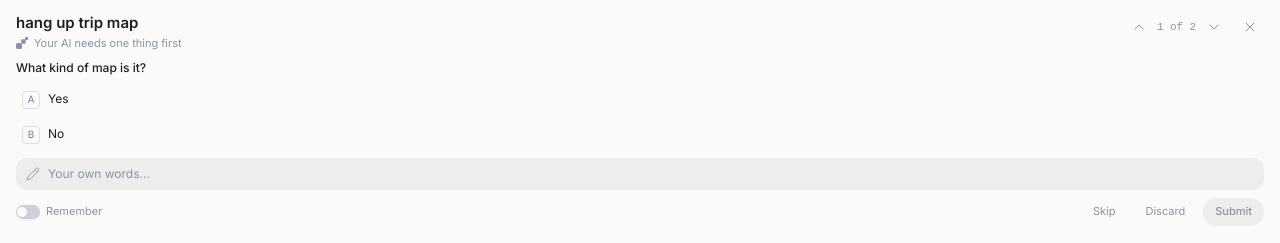
Test: the quick round › deals the next question once one is answered
Expected: the text "What kind of map is it?" is shown, [16, 60, 146, 75]
Expected: the text "1 of 2" is shown, [1157, 20, 1196, 32]
Click the text "Yes" at (58, 98), box [48, 90, 69, 107]
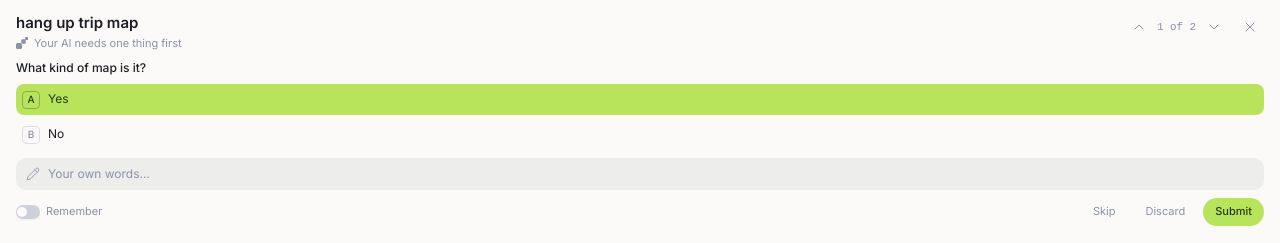
Click the button with test id "prep-pack-submit" at (1234, 212), box [1203, 198, 1264, 226]
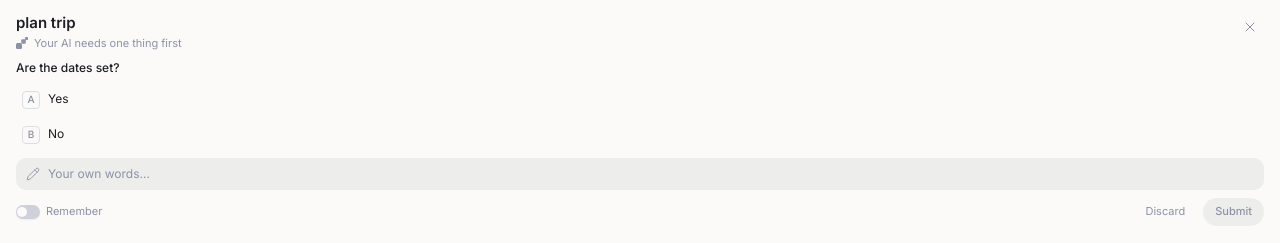
Now the text "Are the dates set?" is shown, box [16, 60, 120, 75]
